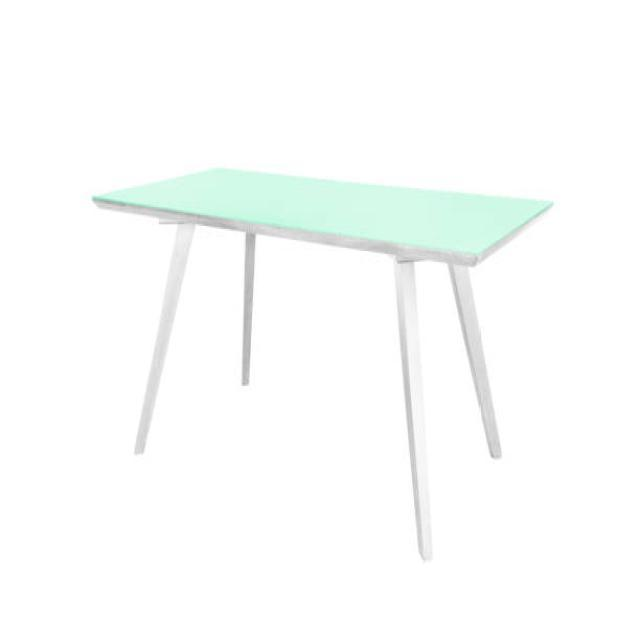table: (91, 163, 553, 562)
